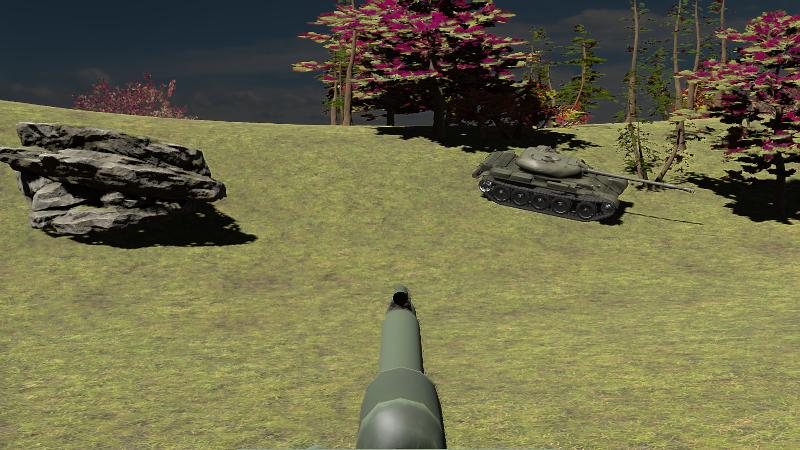Tank: (474, 148, 696, 224)
